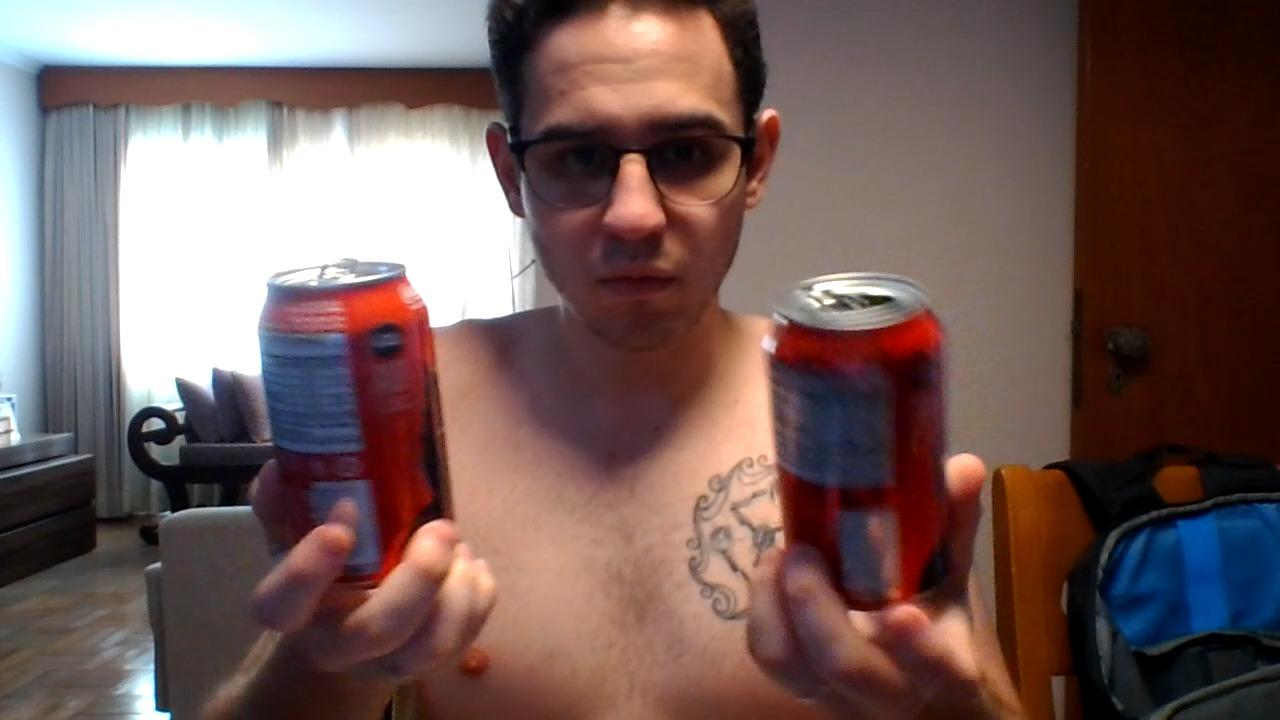coke: (767, 302, 948, 607), (262, 274, 442, 580)
